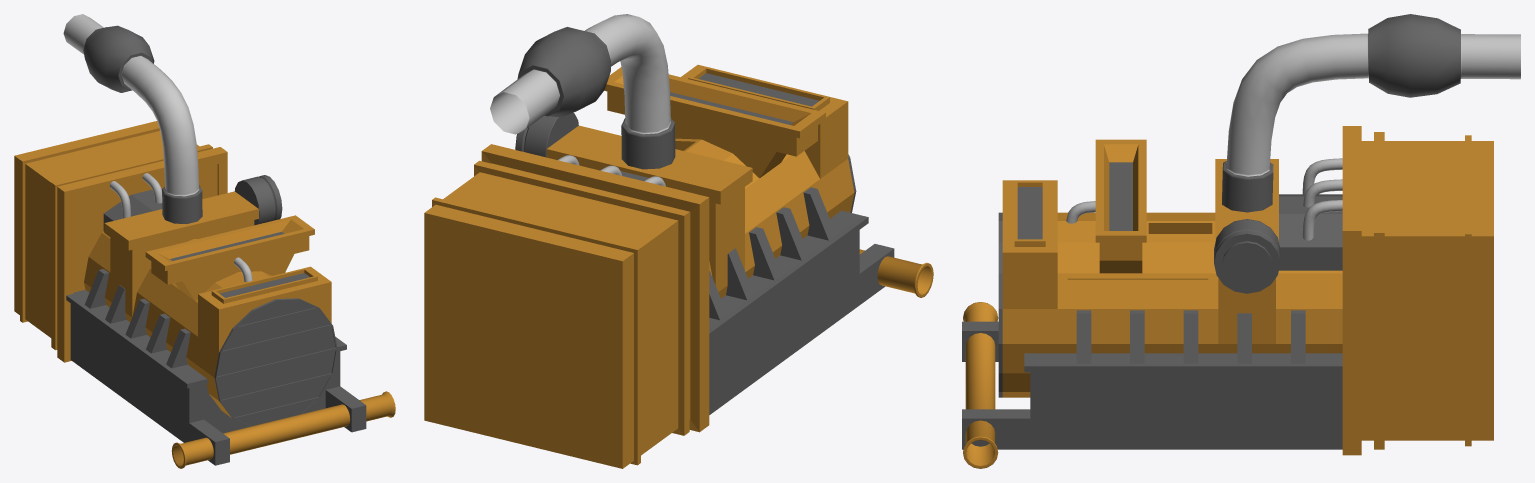
The model's file is SM_Generateur.fbx.
3 views of the same model, side by side, from view 1: azimuth 30°, elevation 25°; view 2: azimuth 150°, elevation 25°; view 3: azimuth 270°, elevation 25° (orthographic). The views are drawn at different scales.
Parts seen in each view (by area): view 1: Cylinder; view 2: Cylinder; view 3: Cylinder.
Boxes of the visible parts, bbox=[...] form: Cylinder: bbox=[14, 14, 395, 468]; Cylinder: bbox=[424, 14, 933, 468]; Cylinder: bbox=[962, 14, 1520, 468].
Bounding box in the file's own units: 298 × 394 × 520.
